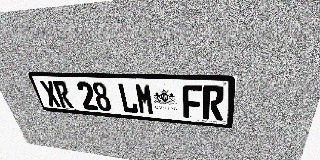2: (76, 81, 98, 110)
8: (90, 82, 113, 112)
F: (182, 85, 202, 119)
L: (117, 83, 139, 114)
M: (134, 83, 155, 115)
R: (203, 85, 224, 121), (52, 81, 74, 109)
X: (39, 80, 62, 107)
